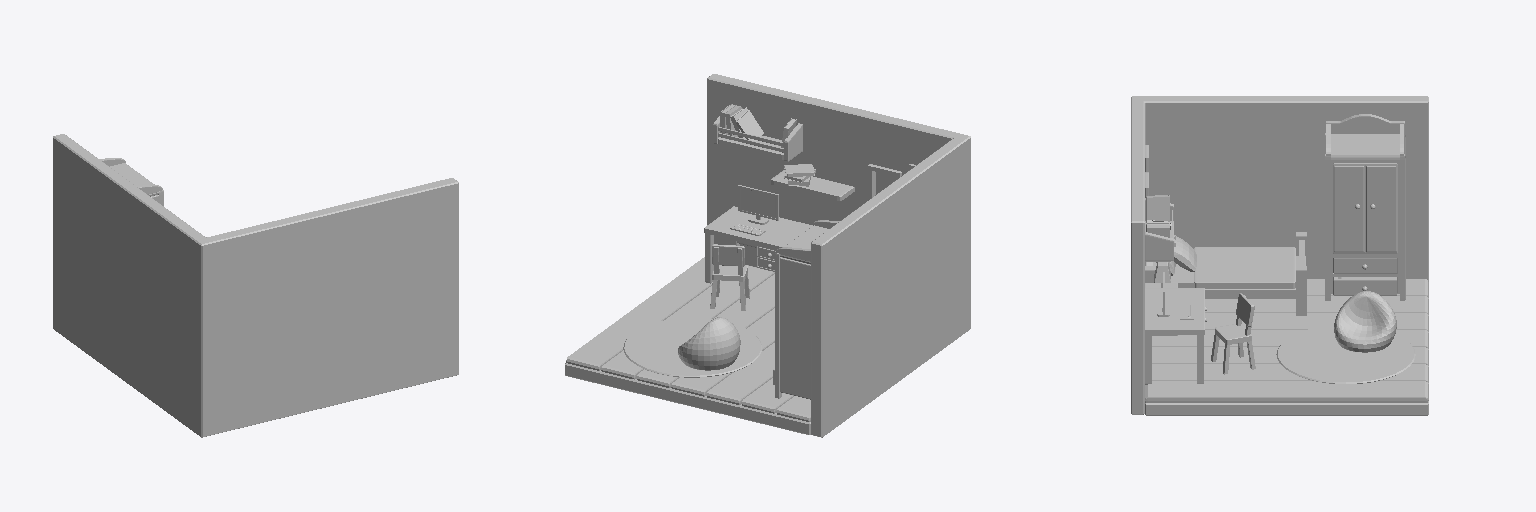
The model's file is Bedroom.obj.
The picture shows the model from 3 angles: view 1: azimuth 30°, elevation 25°; view 2: azimuth 150°, elevation 25°; view 3: azimuth 270°, elevation 25°; orthographic projection.
Parts seen in each view (by area): view 1: Wall_Cube.002, Wardrobe_1_Cube.019; view 2: Wall_Cube.002, Wood_floor_1_Plane.001, Wardrobe_1_Cube.019, Carpet_1_Circle, Floor_Plane, Table_1_Cube.013, Seat_1_Sphere.001, Wall_bookshelf.001_Cube.044, Chair_1_Cube.024, PC_1_Cube.021, Wall_shelf.001_Cube.042, Book_stack_2.001_Cube.045 (+2 smaller); view 3: Wall_Cube.002, Wood_floor_1_Plane.001, Wardrobe_1_Cube.019, Bed_1_Cube.031, Carpet_1_Circle, Floor_Plane, Table_1_Cube.013, Seat_1_Sphere.001, Chair_1_Cube.024, Wall_bookshelf.001_Cube.044, Cube.008.
Boxes of the visible parts, x1,y1,x2,y2 form: Wall_Cube.002: [53, 134, 458, 437]; Wardrobe_1_Cube.019: [99, 158, 163, 205]; Wall_Cube.002: [707, 74, 970, 437]; Wood_floor_1_Plane.001: [566, 257, 810, 421]; Wardrobe_1_Cube.019: [773, 220, 839, 399]; Carpet_1_Circle: [623, 318, 761, 377]; Floor_Plane: [565, 363, 810, 434]; Table_1_Cube.013: [704, 206, 812, 283]; Seat_1_Sphere.001: [678, 317, 740, 370]; Wall_bookshelf.001_Cube.044: [713, 106, 802, 161]; Chair_1_Cube.024: [710, 244, 749, 310]; PC_1_Cube.021: [738, 185, 778, 224]; Wall_shelf.001_Cube.042: [771, 170, 854, 200]; Book_stack_2.001_Cube.045: [720, 104, 763, 141]; Wall_Cube.002: [1131, 96, 1428, 414]; Wood_floor_1_Plane.001: [1145, 279, 1428, 402]; Wardrobe_1_Cube.019: [1325, 114, 1405, 300]; Bed_1_Cube.031: [1145, 232, 1306, 315]; Carpet_1_Circle: [1276, 325, 1415, 383]; Floor_Plane: [1145, 298, 1428, 415]; Table_1_Cube.013: [1145, 288, 1206, 384]; Seat_1_Sphere.001: [1334, 291, 1396, 352]; Chair_1_Cube.024: [1211, 293, 1255, 374]; Wall_bookshelf.001_Cube.044: [1145, 198, 1173, 260]; Cube.008: [1146, 195, 1169, 222].
Bounding box in the file's own units: 8.4 × 6.03 × 8.4.